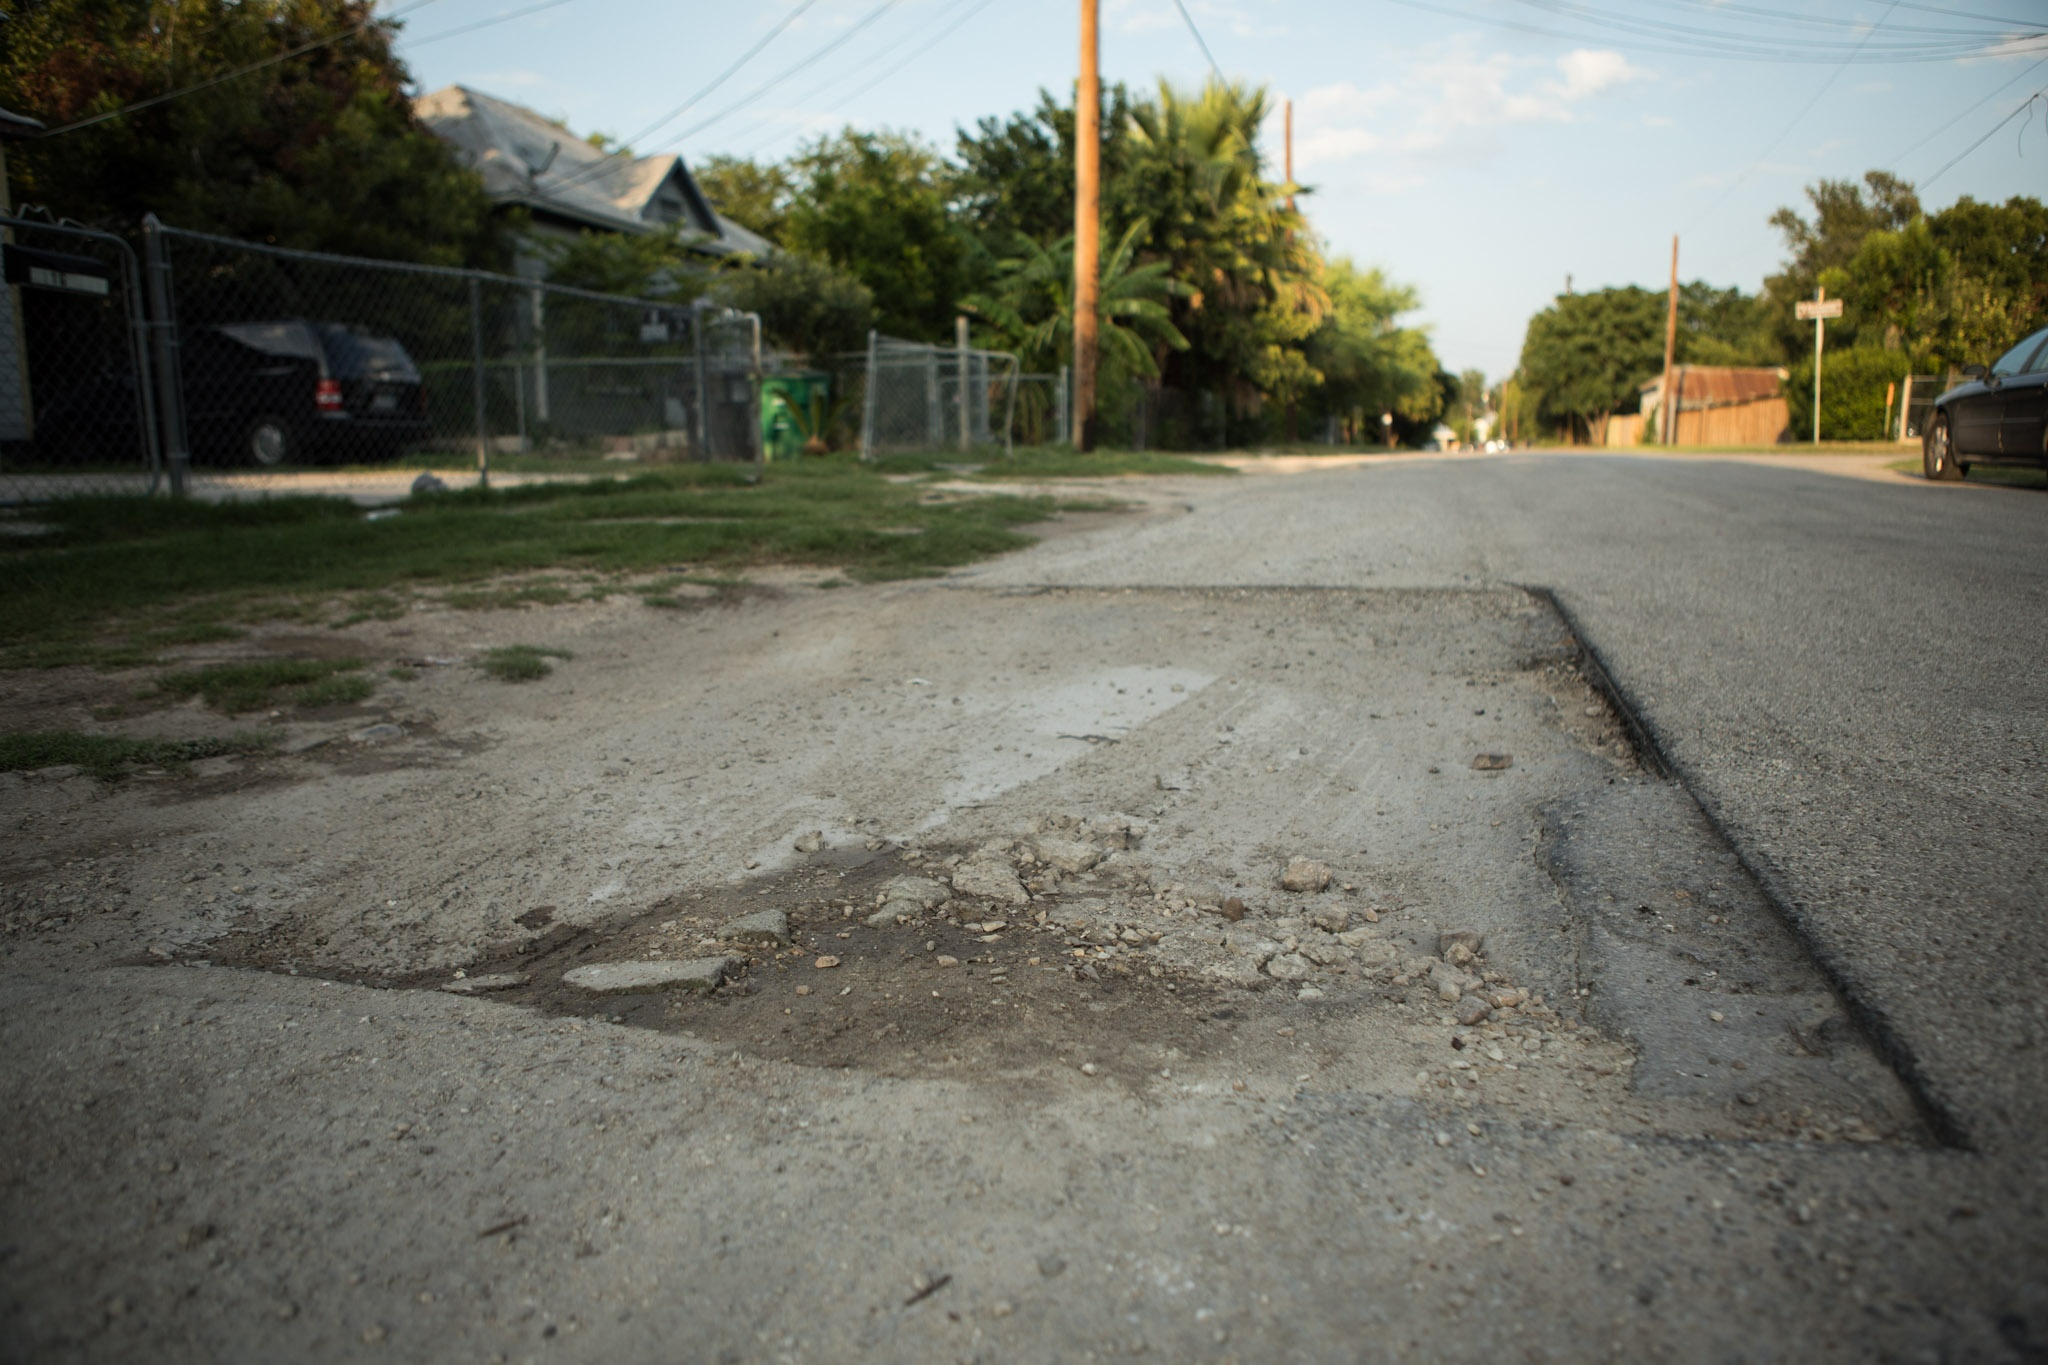pothole: (467, 721, 1527, 1181)
